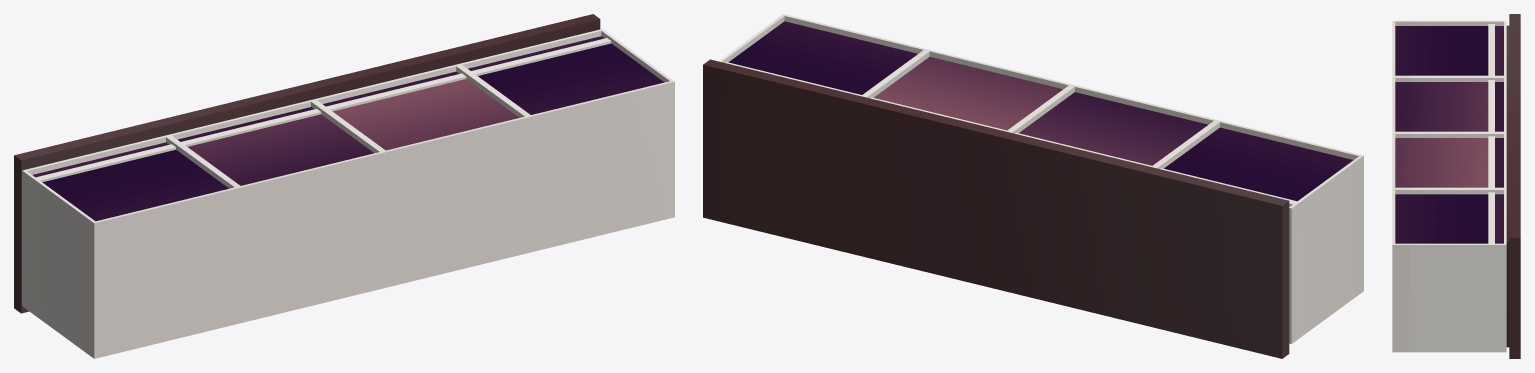
File: Science Table.fbx
3 renders of one model, left to right at view 1: azimuth 30°, elevation 25°; view 2: azimuth 150°, elevation 25°; view 3: azimuth 270°, elevation 25°, orthographic. The views are drawn at different scales.
Visible parts, largest first — view 1: Cube; view 2: Cube; view 3: Cube.
Part boxes in pixels (box(x1,y1,x2,y2)): Cube: box(14, 14, 674, 358); Cube: box(703, 14, 1363, 358); Cube: box(1392, 14, 1520, 358).
Bounding box in the file's own units: 1237 × 312 × 298.
